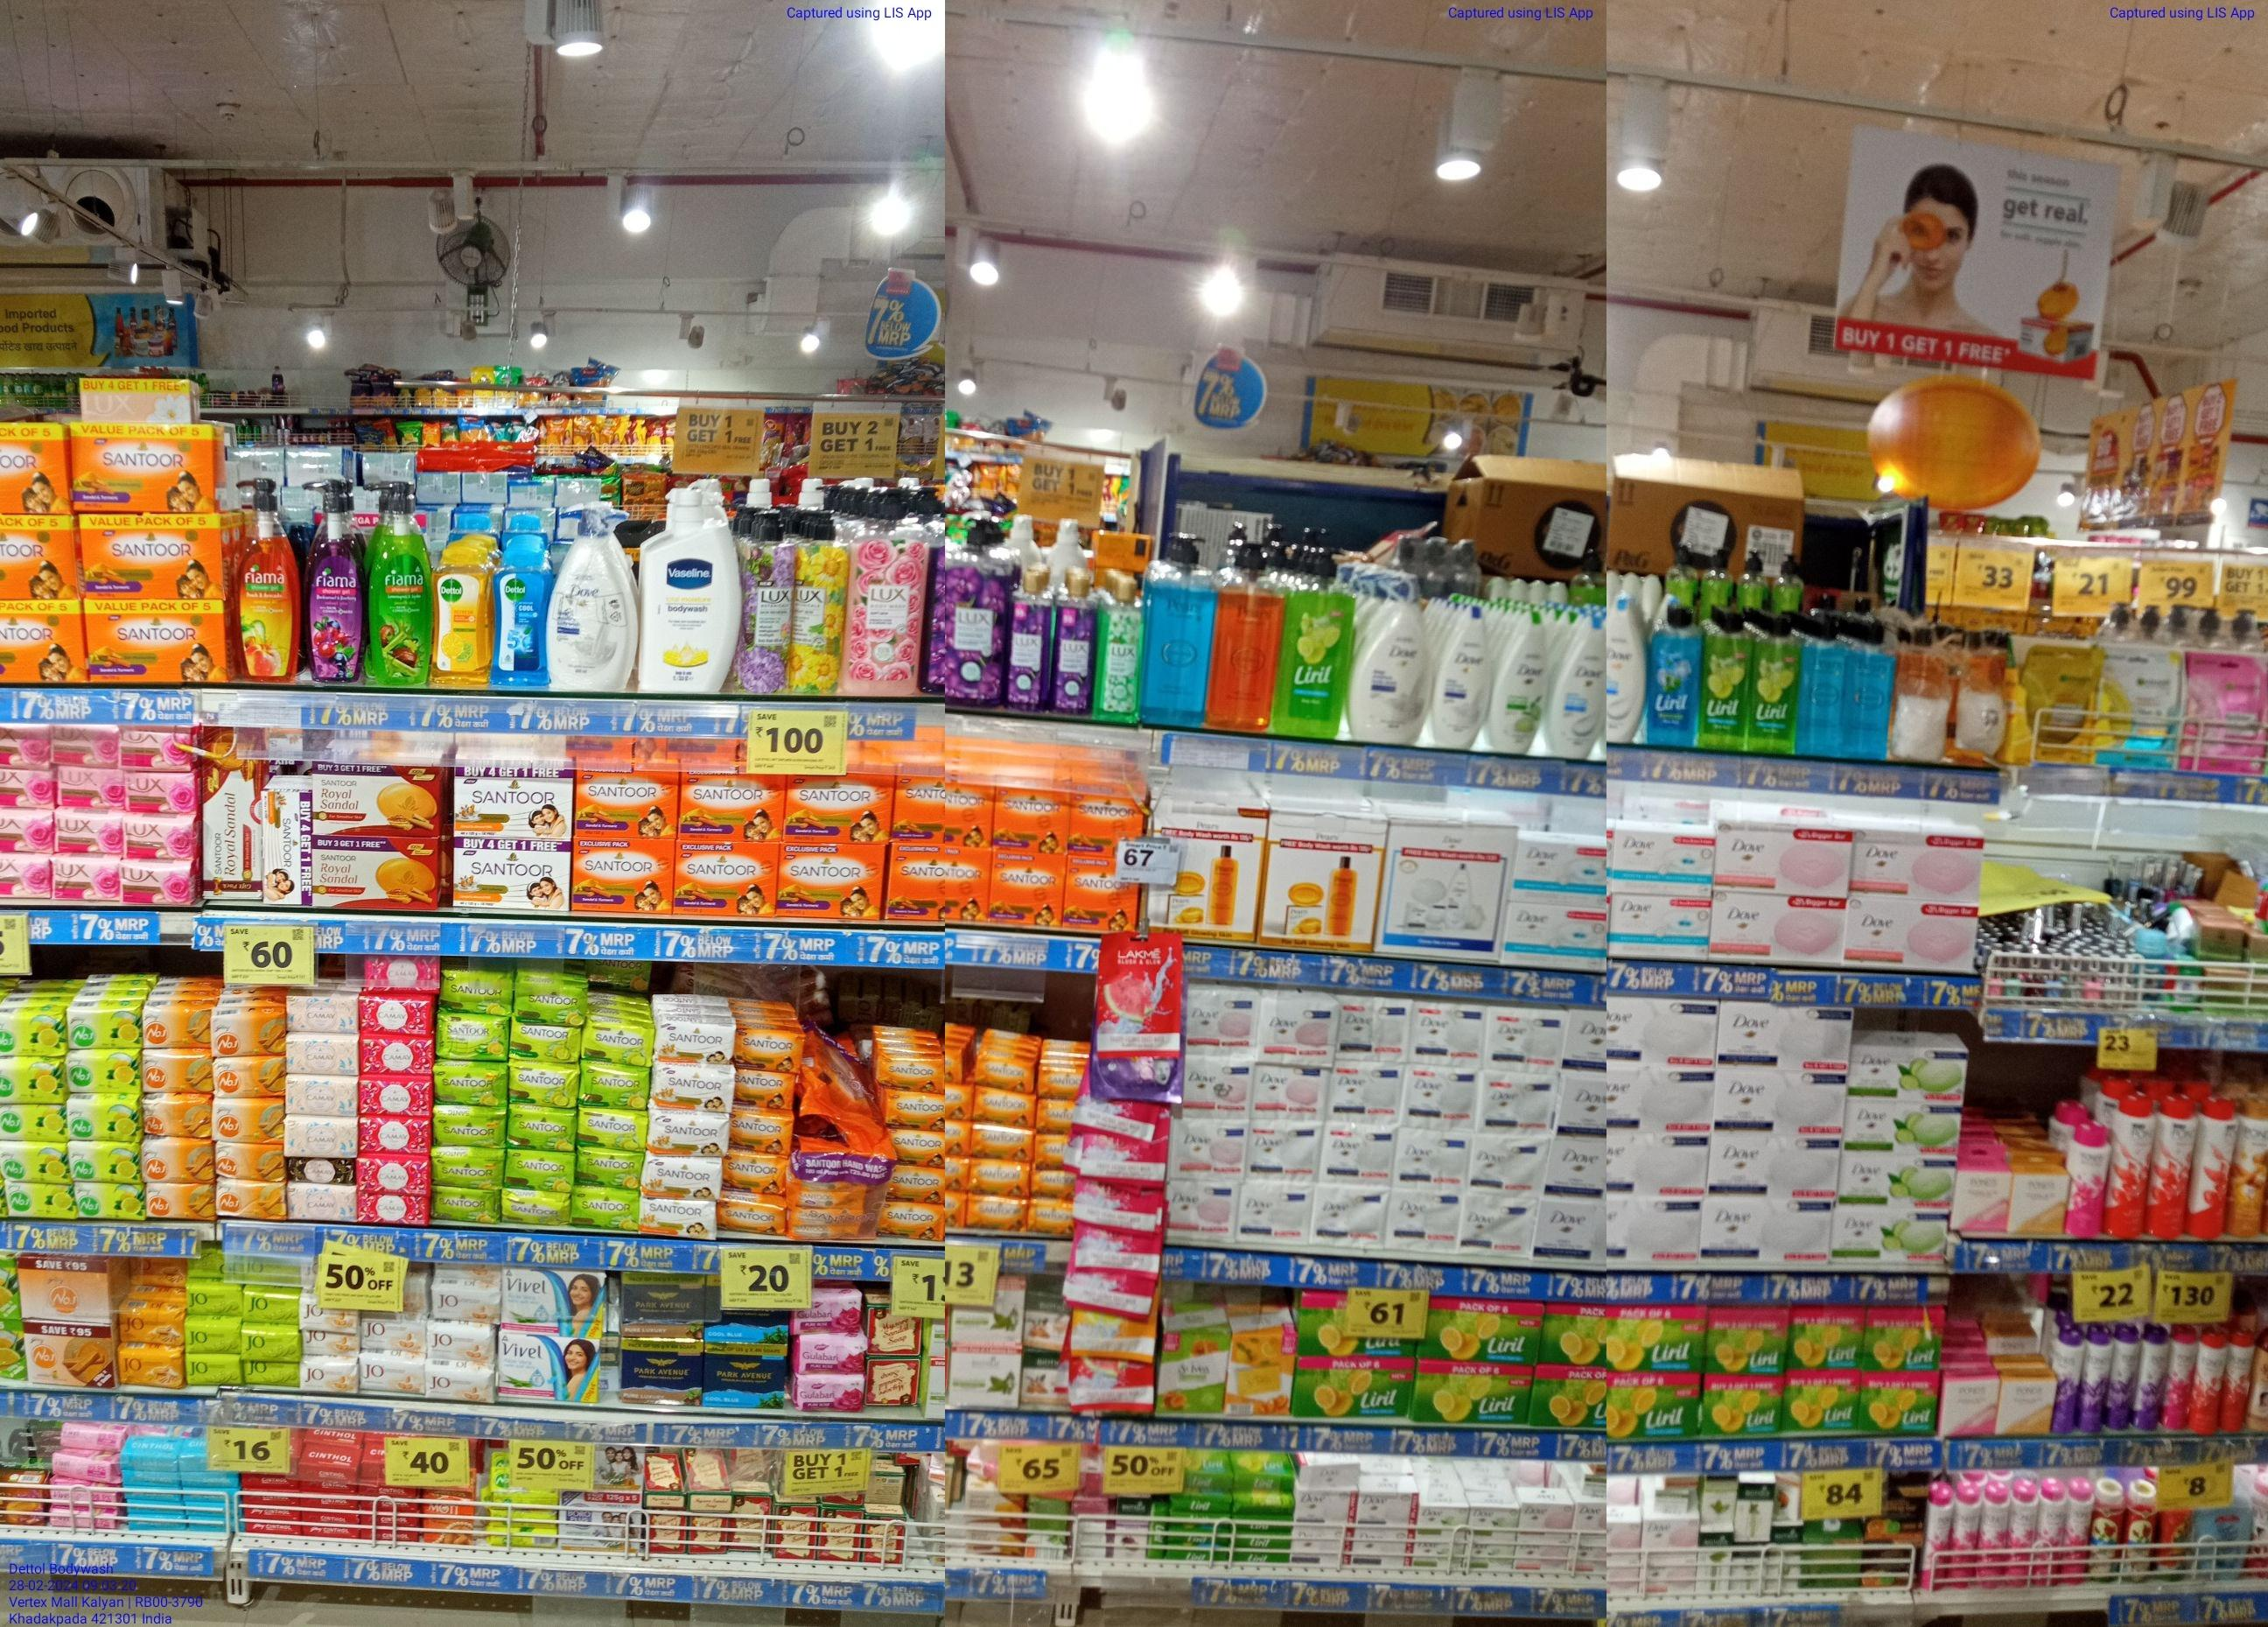Dettol_Bodywash_Cool: (493, 534, 551, 690)
Dettol_Bodywash_Refresh: (433, 544, 489, 688)
Dove_Deep_Moisture_Body_Wash_250ML: (1436, 604, 1490, 752)
Dove_Gentle_Exfoliating_Body_Wash_250ML: (1555, 618, 1610, 761), (1606, 593, 1645, 745)
Dove_Refreshing_Body_Wash_250ML: (1499, 609, 1548, 759)
Liril_Cooling_Mint_Body_Wash_250ML: (1650, 604, 1700, 752)
Liril_Lime_and_Tea_Tree_Oil_Body_Wash_250ML: (1703, 615, 1752, 755), (1756, 611, 1798, 759)
Lux_Black_Orchid_Scent_and_Juniper_Oil_Body_Wash_245ML: (1056, 572, 1098, 715), (1010, 565, 1049, 718)
Lux_Body_Wash_Skin_Detox_Freesia_Scent_and_Alove_Vera_245ML: (1098, 578, 1144, 724)
Pears_Pure_Glycerin_and_Mint_Extracts_Body_Wash_250ML: (1853, 615, 1891, 762), (1809, 616, 1847, 759)
